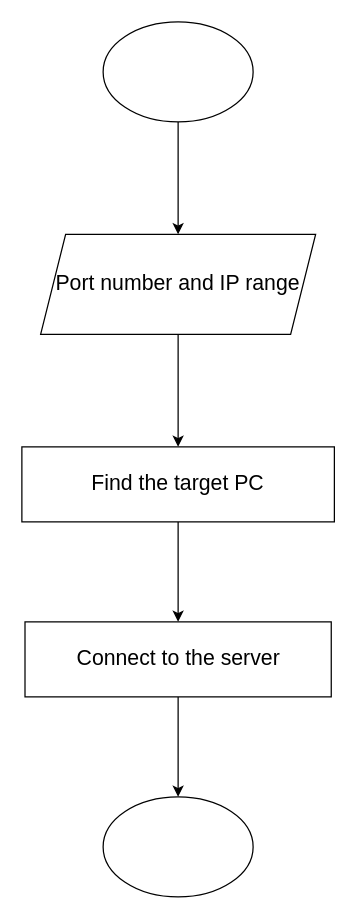
Image size: 356x919. Some labels were removed from this diagram. The shapes that lost their labels are listed below. From the top down, each one's centre as x and y in pixels, then its label:
pixel 177 71: BEGIN
pixel 177 846: END
